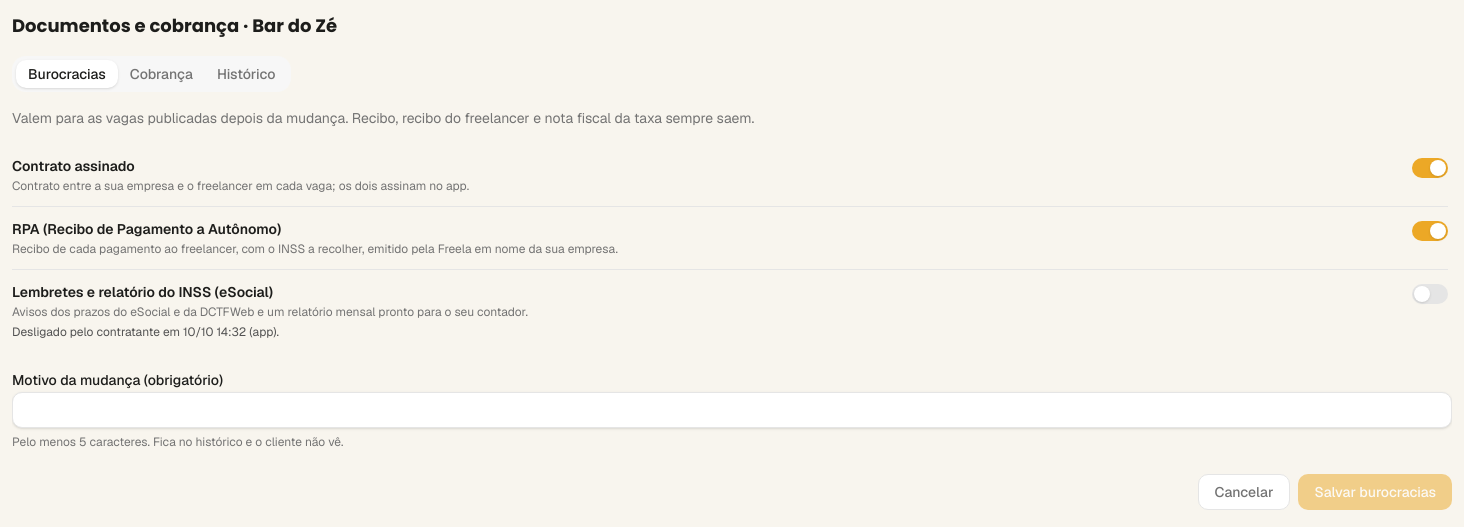
it: PreferencesDialog — aba Burocracias › 'Salvar burocracias' desabilitado sem mudança ou com motivo < 5
Expected: the button "Salvar burocracias" is disabled, [1298, 474, 1452, 510]
Type "Cliente pediu por e-mail" into the field labelled "Motivo da mudança (obrigatório)" at (732, 410), box [12, 392, 1452, 428]
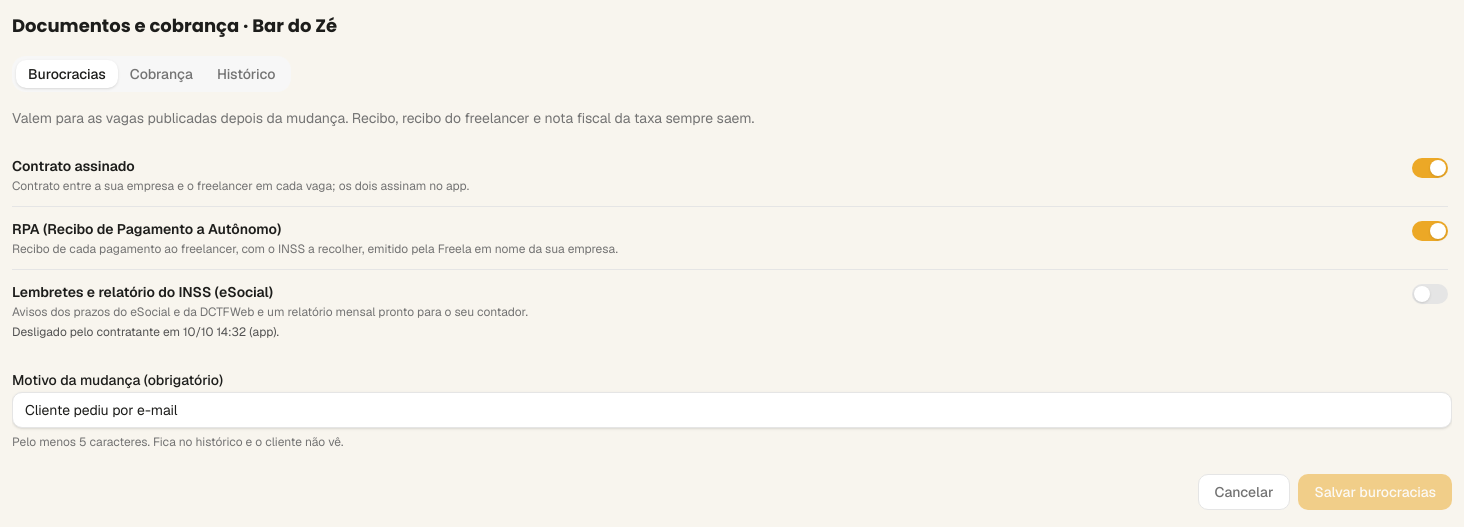
Expected: the button "Salvar burocracias" is disabled, [1298, 474, 1452, 510]
Click the switch named "Contrato assinado" in the row of "Contrato assinado" at (1430, 168), box [1412, 158, 1448, 178]
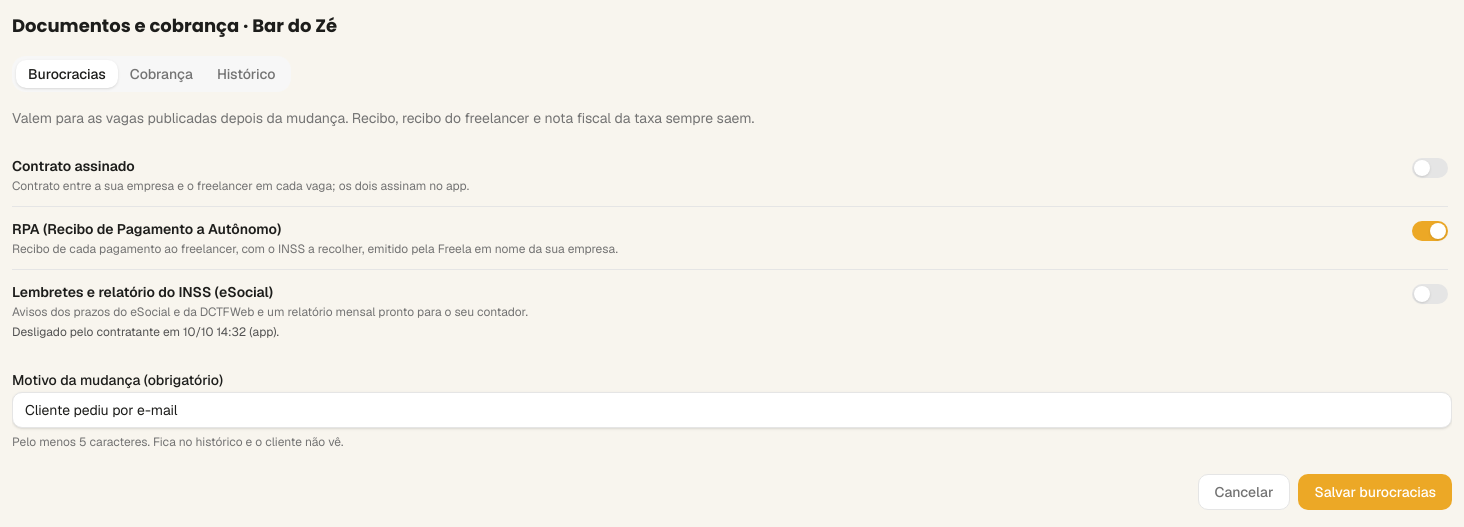
Expected: the button "Salvar burocracias" is enabled, [1298, 474, 1452, 510]
Replace the text in the field labelled "Motivo da mudança (obrigatório)" with "  abc   " at (732, 410), box [12, 392, 1452, 428]
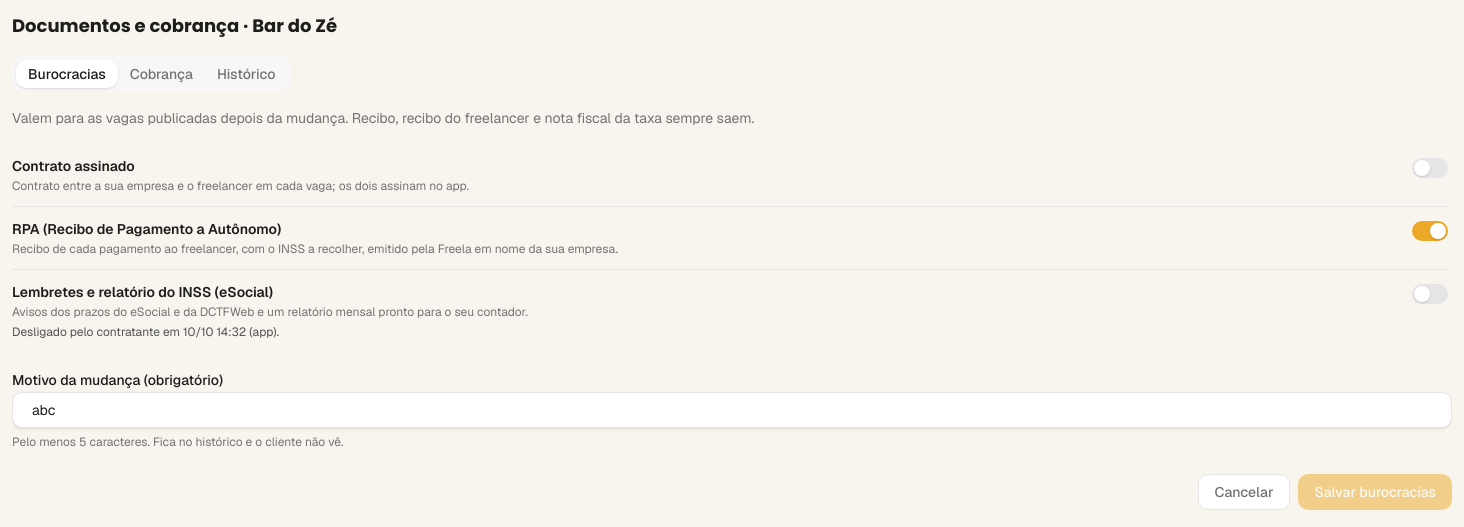
Expected: the button "Salvar burocracias" is disabled, [1298, 474, 1452, 510]
Replace the text in the field labelled "Motivo da mudança (obrigatório)" with "Cliente pediu por e-mail" at (732, 410), box [12, 392, 1452, 428]
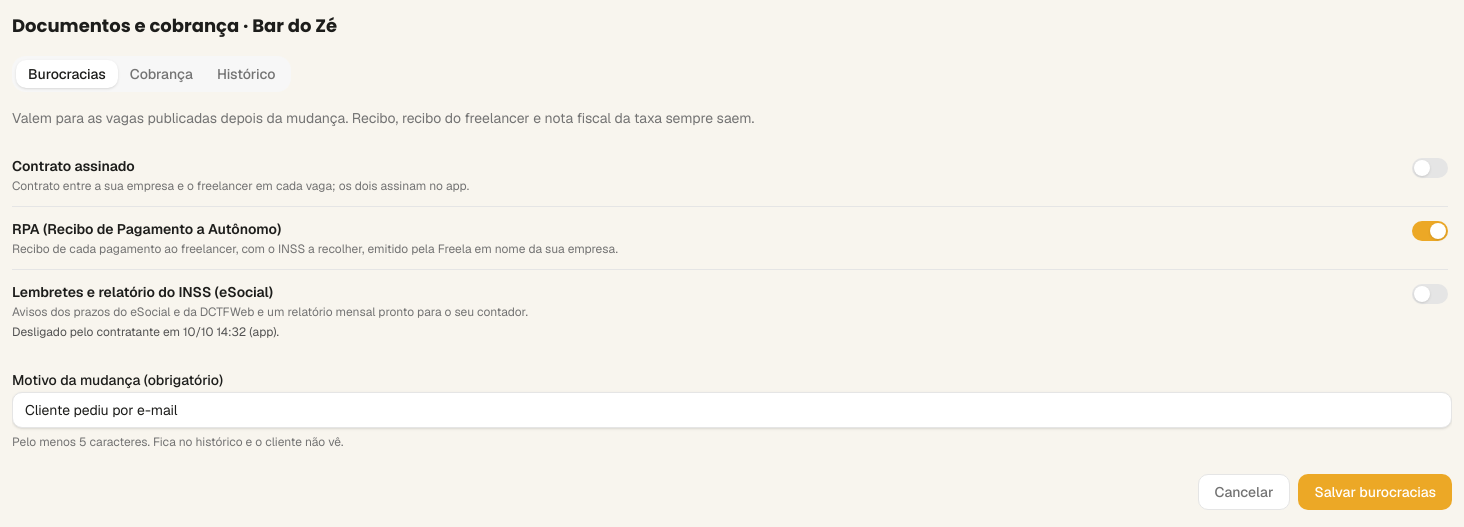
Click the switch named "Contrato assinado" in the row of "Contrato assinado" at (1430, 168), box [1412, 158, 1448, 178]
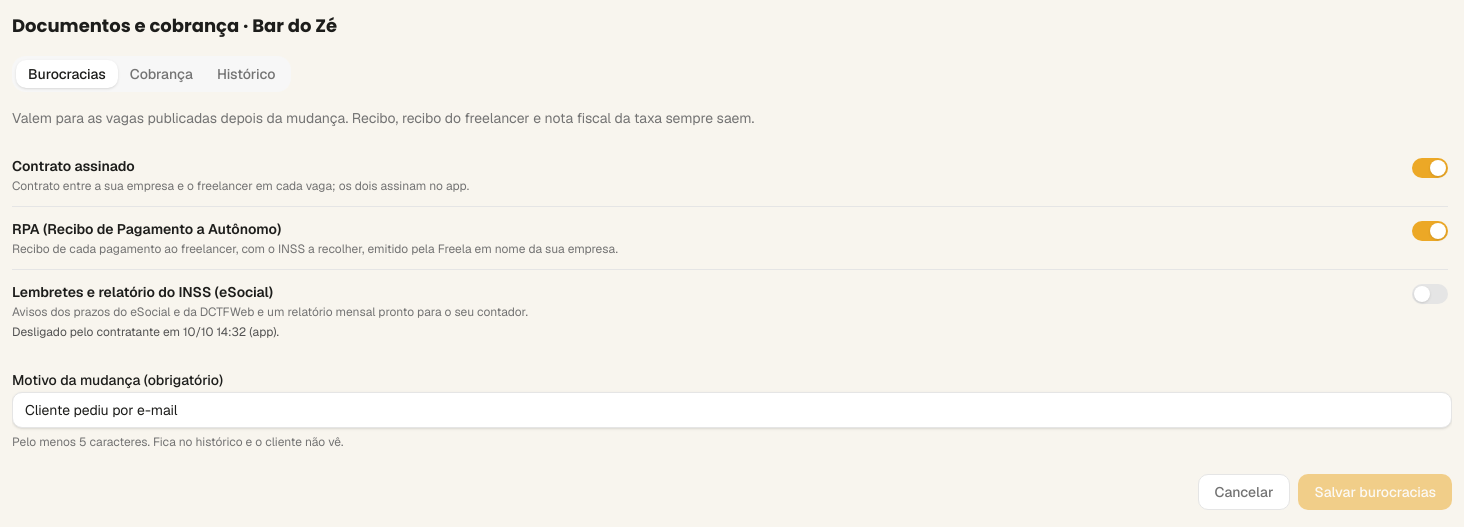
Expected: the button "Salvar burocracias" is disabled, [1298, 474, 1452, 510]
